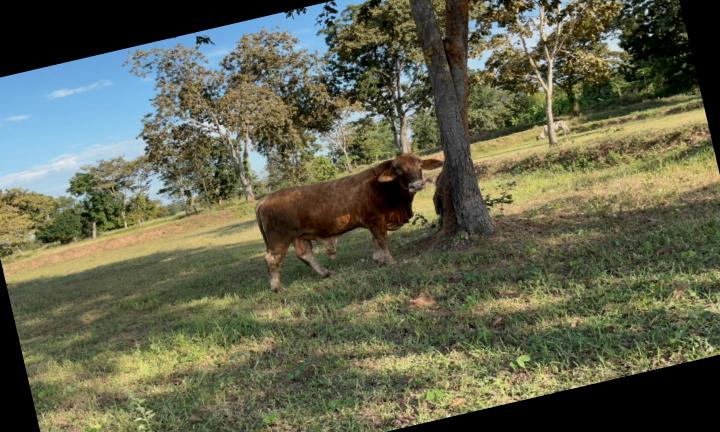Charolais: (255, 153, 443, 291)
